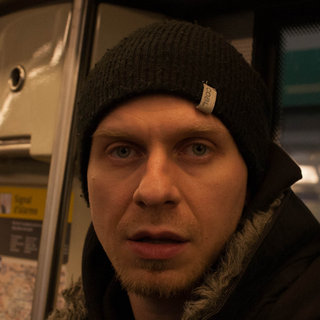eye: (173, 135, 219, 160), (103, 140, 147, 163)
